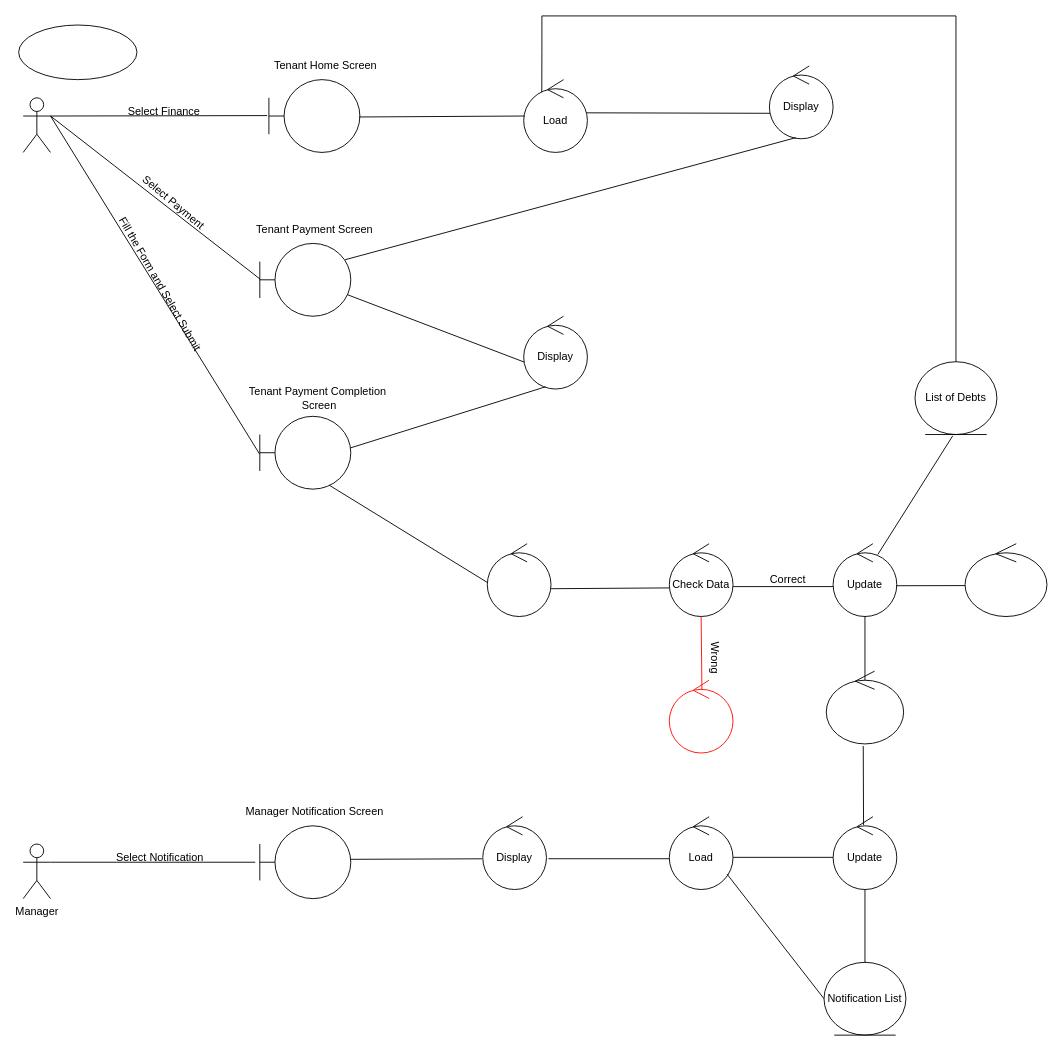
This 1063x1051 diagram has some shape labels left out. The shapes that lost their labels are listed below. From the top down, each one's centre as x and y in pixels, then its label:
(x=77, y=52): Payment
(x=36, y=124): Tenant
(x=518, y=580): Submit
(x=1005, y=580): Show Confirmation Message
(x=700, y=716): Error Message
(x=864, y=707): Create Announcment
